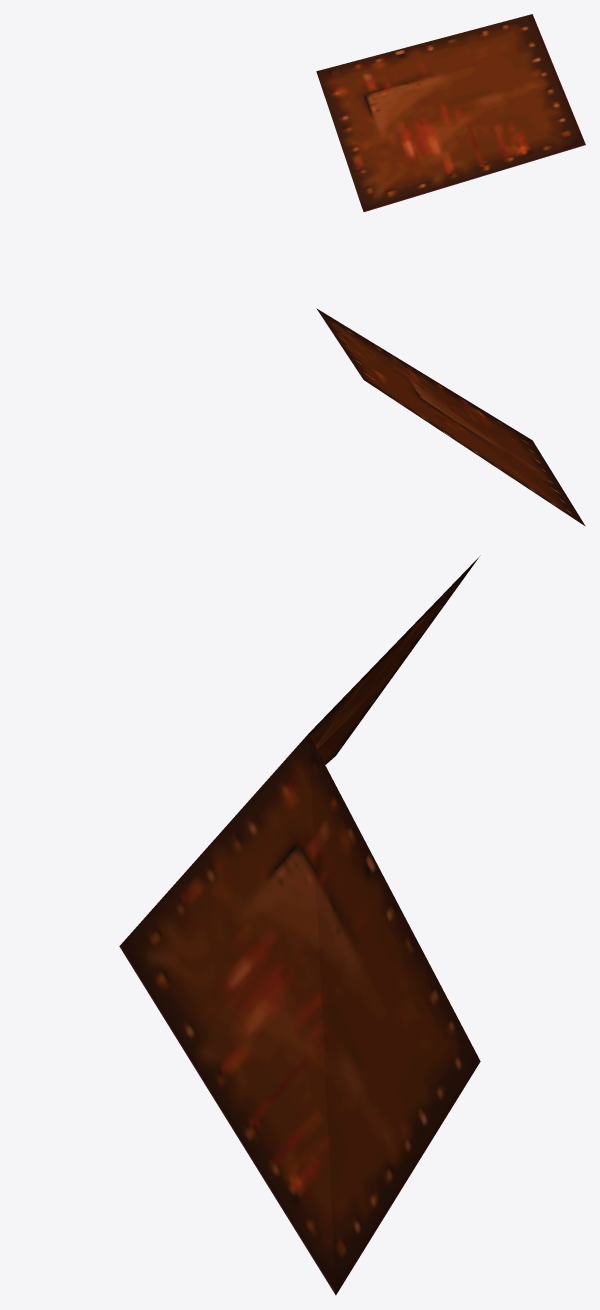
File: Schiff_Heck6_1264.glb
3 views of the same model, one above another, from view 1: azimuth 30°, elevation 25°; view 2: azimuth 150°, elevation 25°; view 3: azimuth 270°, elevation 25° (orthographic). The views are drawn at different scales.
Visible parts, largest first — view 1: pPlaneShape47; view 2: pPlaneShape26; view 3: pPlaneShape47, pPlaneShape26.
Boxes of the visible parts, left/top/right/bottom form: pPlaneShape47: left=316, top=14, right=585, bottom=211; pPlaneShape26: left=316, top=308, right=585, bottom=526; pPlaneShape47: left=119, top=733, right=480, bottom=1295; pPlaneShape26: left=309, top=555, right=480, bottom=764.
Size of the model in its own units: 0.9806 by 0.2477 by 0.2774.
2 materials, 2 textured.
